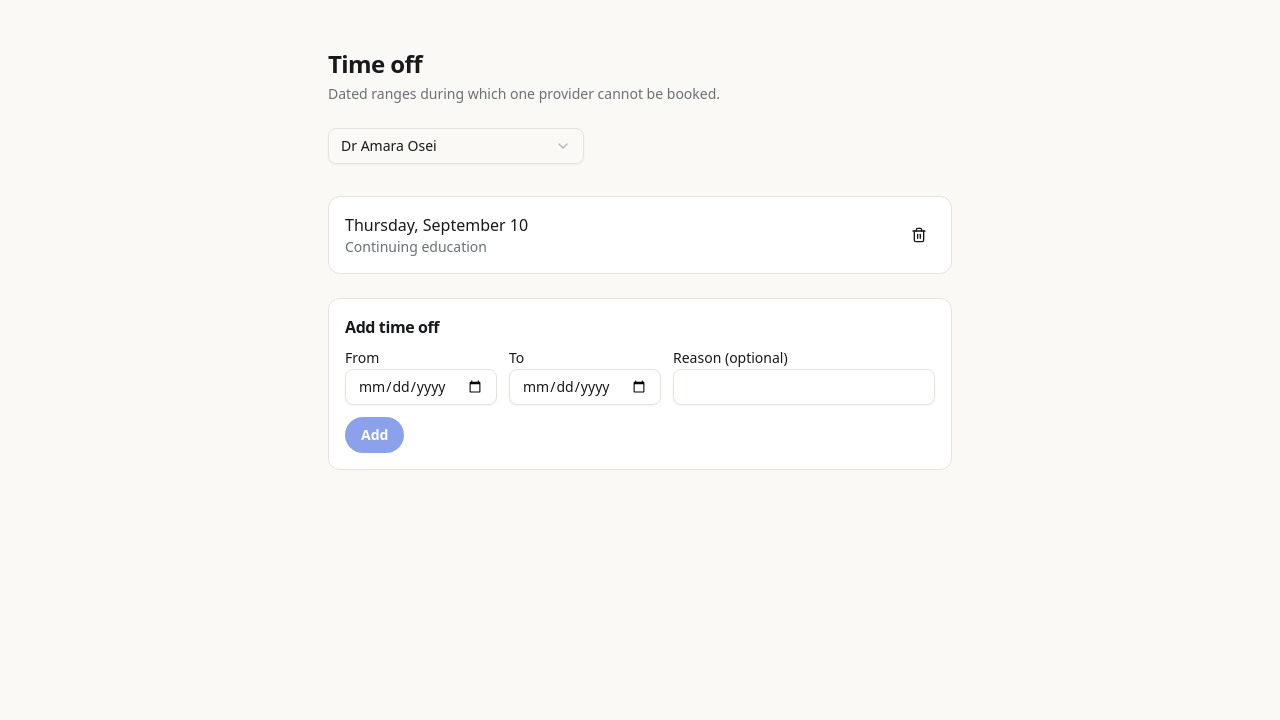
Scenario: removing a range › asks first, then sends the delete and drops the row
The width and height of the screenshot is (1280, 720).
Expected: the text "Continuing education" is shown, [345,237,487,256]
Click the button named "Remove time off" at x=919, y=235, box [903,219,935,251]
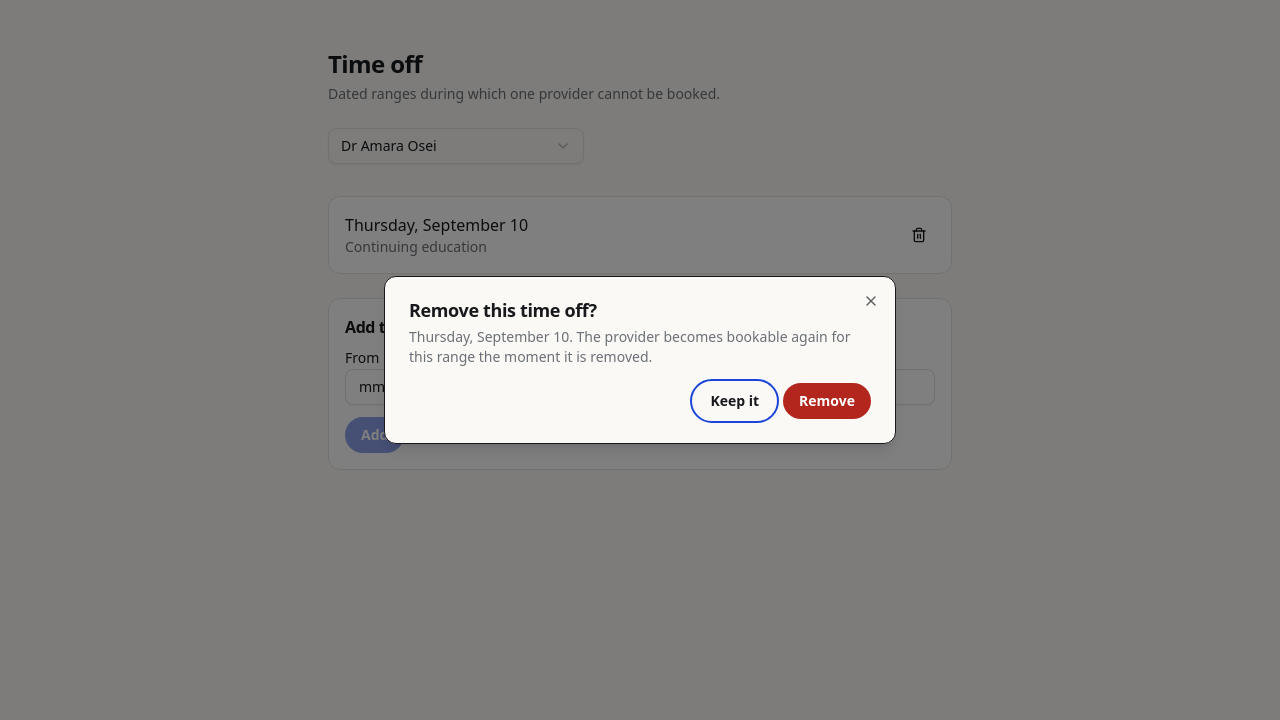
Now the heading "Remove this time off?" is shown, box [409,298,597,322]
Click the button "Remove" at x=827, y=401, box [783,383,871,419]
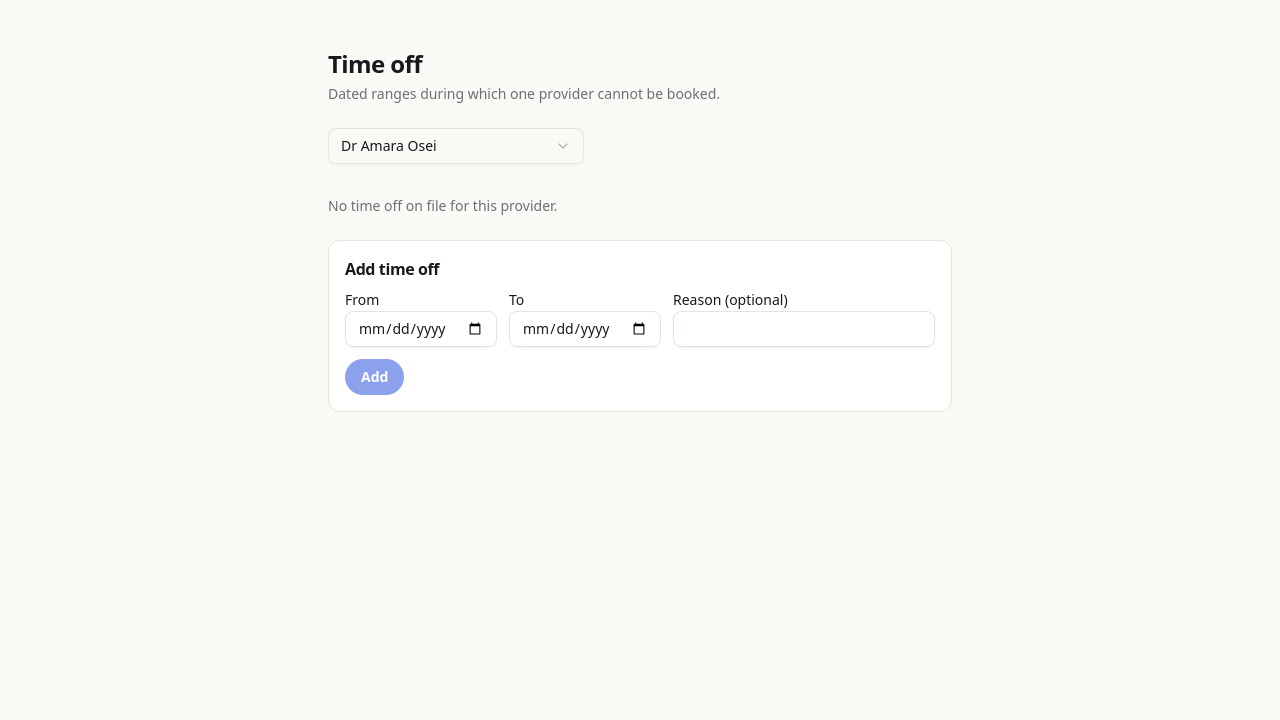
Now the text "No time off on file for this provider." is shown, box [328,196,557,215]
